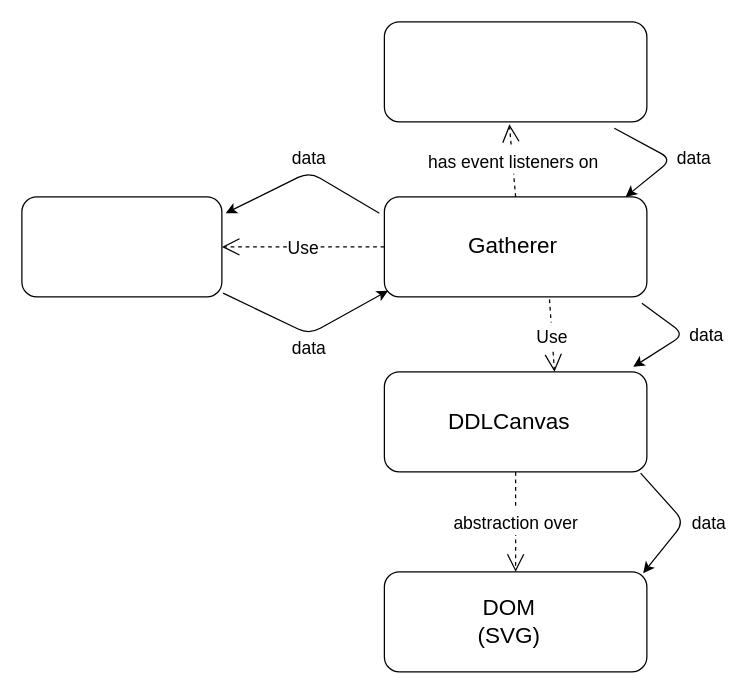
The diagram is 756 pixels wide and 694 high, and some of its shapes have lost their labels. The centre of each missing label's shape, as x and y in pixels:
Appender FactoryFactory: [121,246]
DOM (filters, etc.): [515,71]
